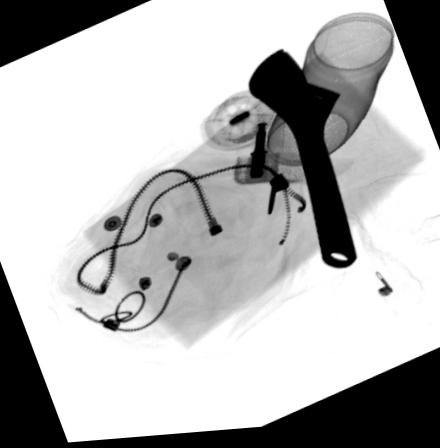Wrench: (246, 51, 358, 275)
